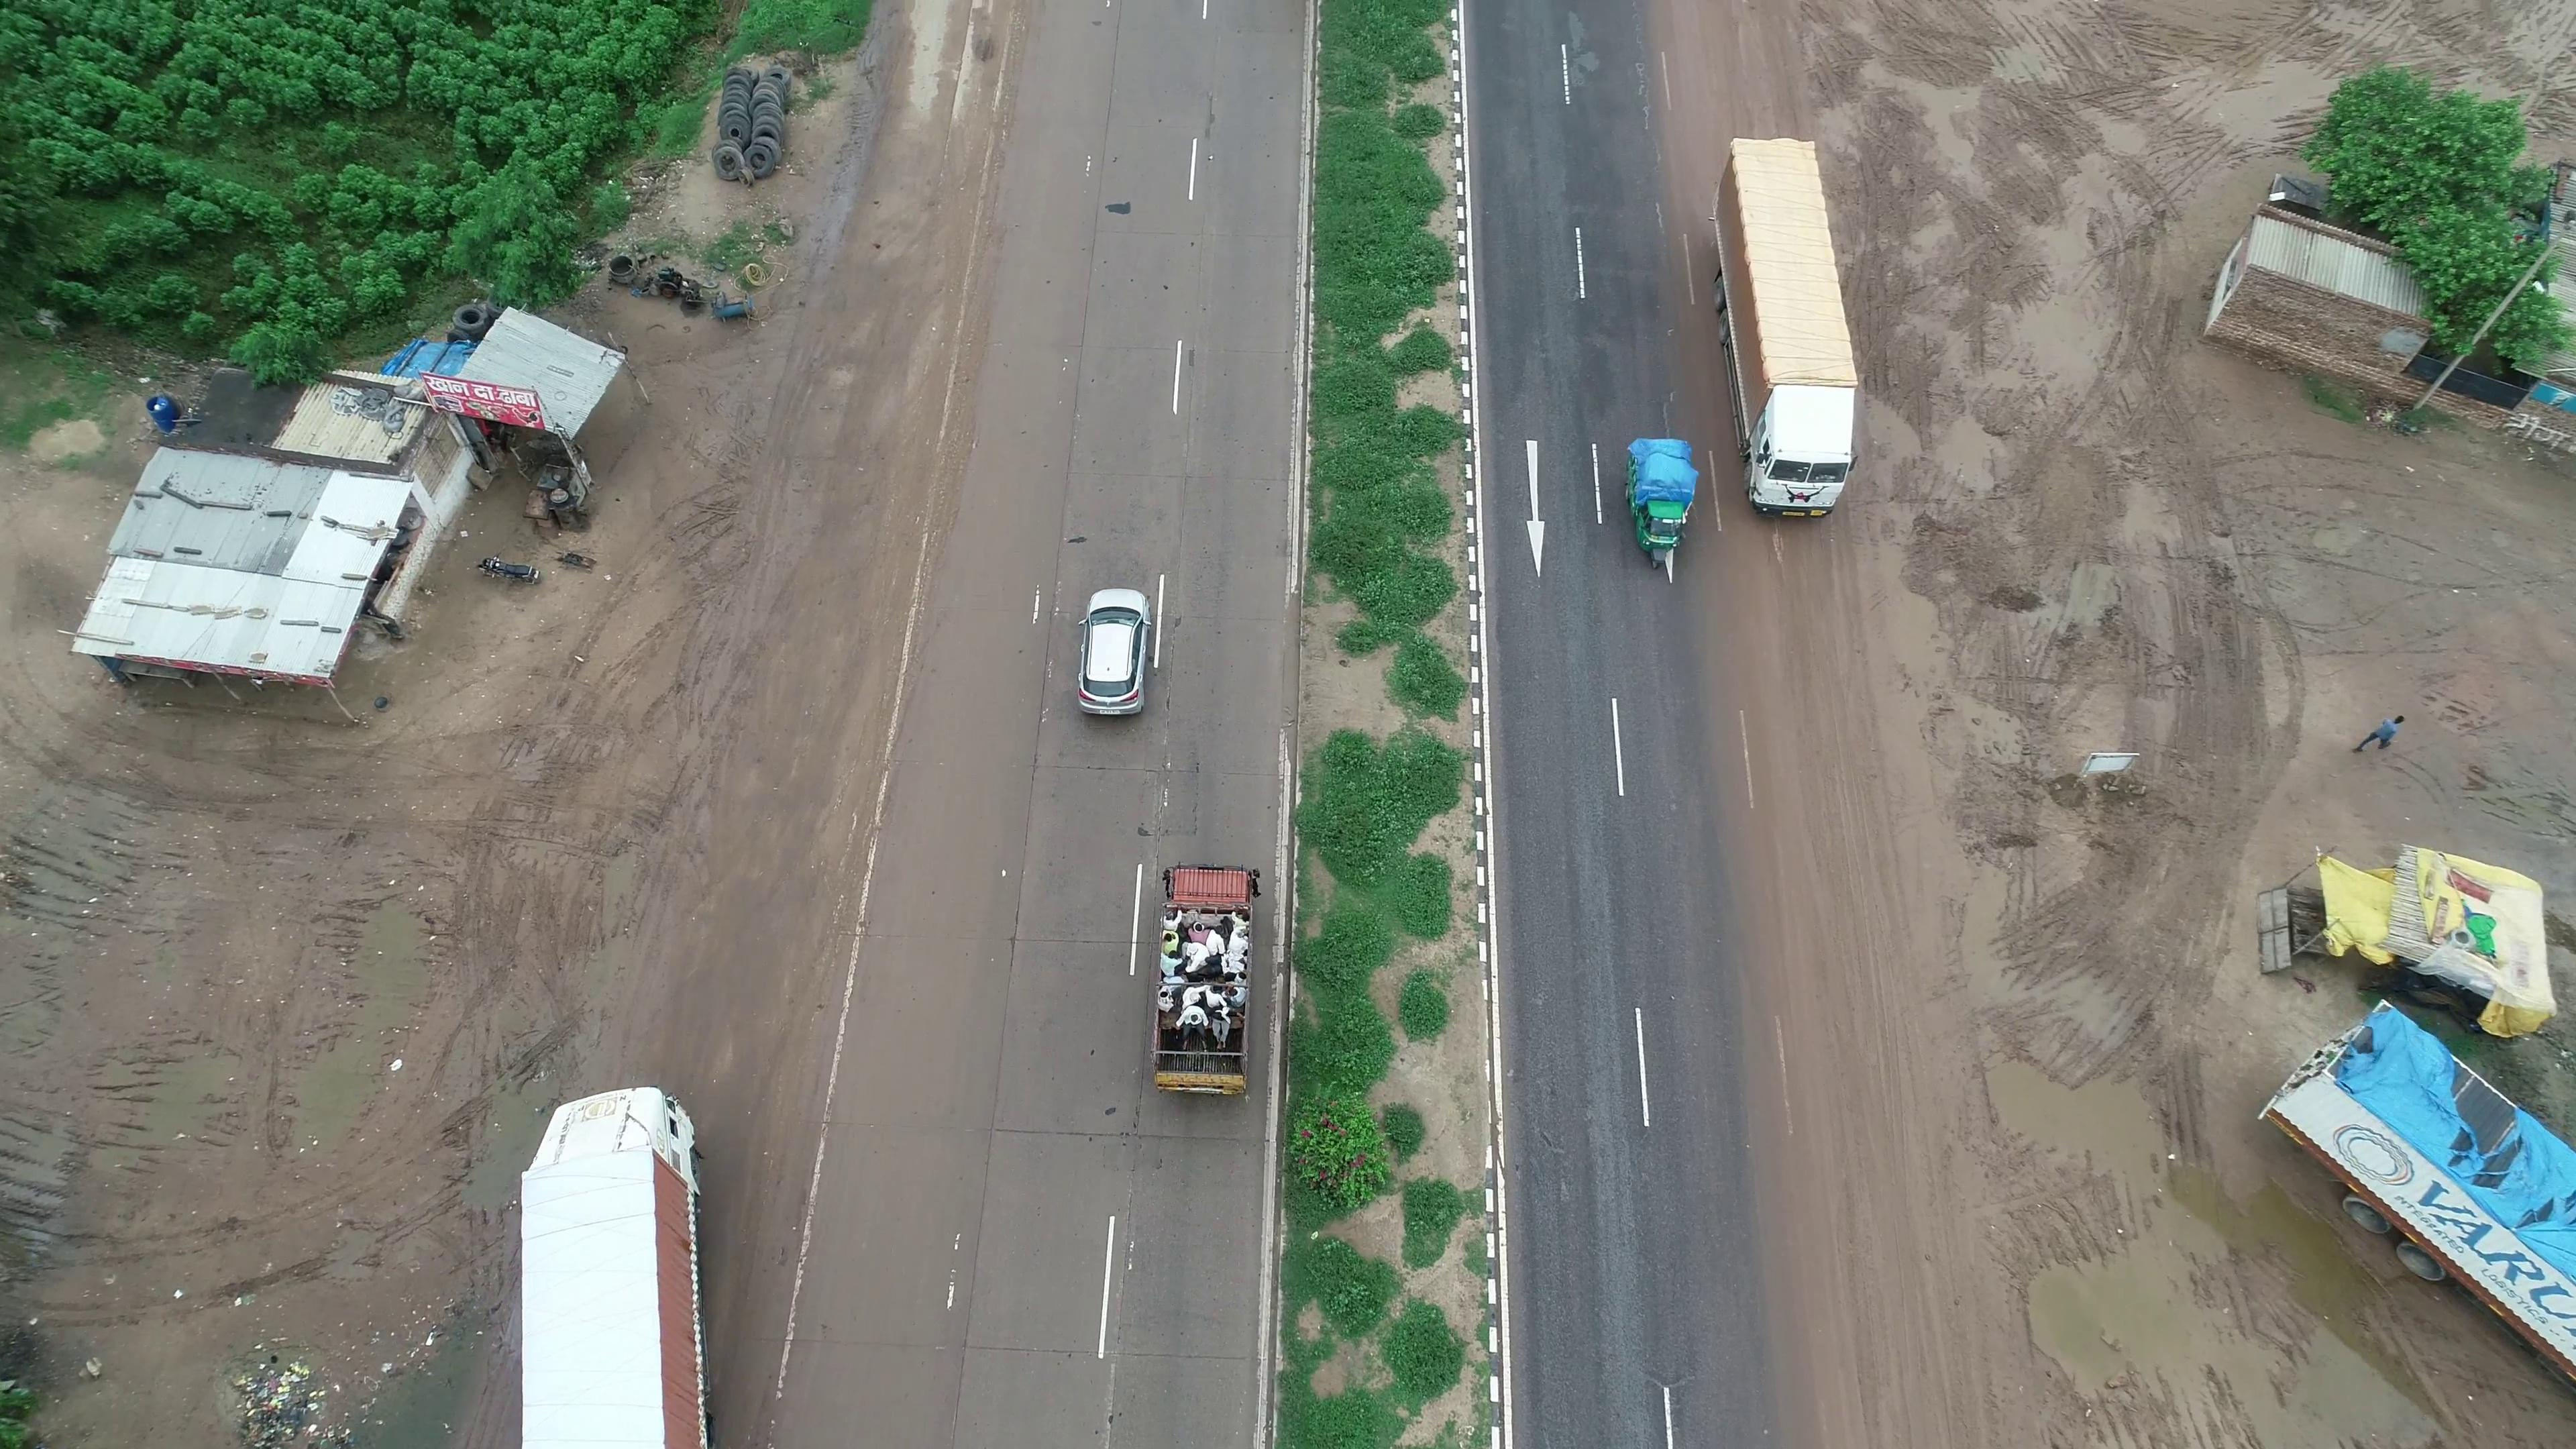Muddy_road: (1760, 748, 2040, 1440)
